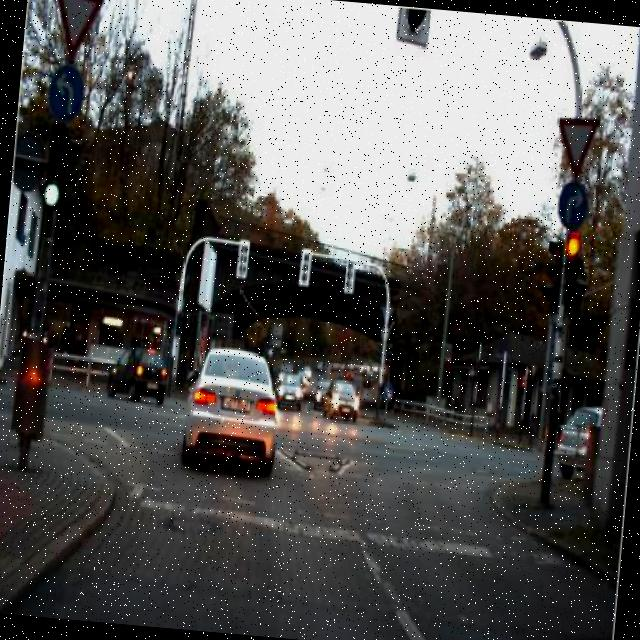Ustap pierwszenstwa: (550, 110, 604, 186)
